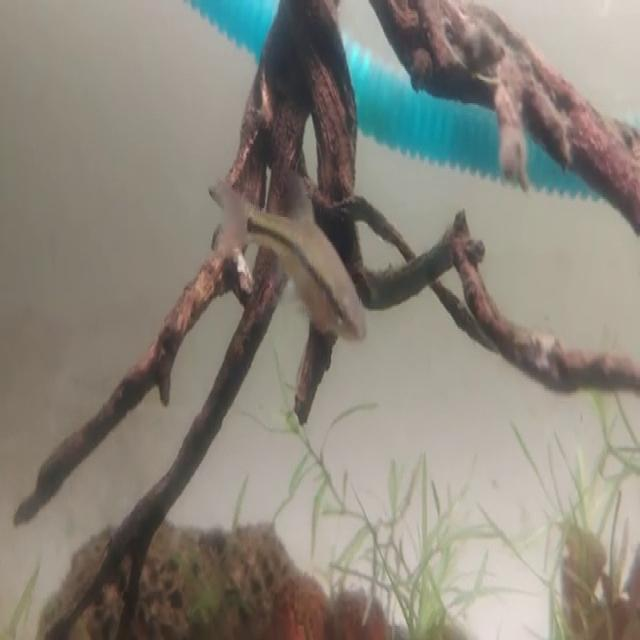Cakil Baligi: (220, 172, 369, 344)
